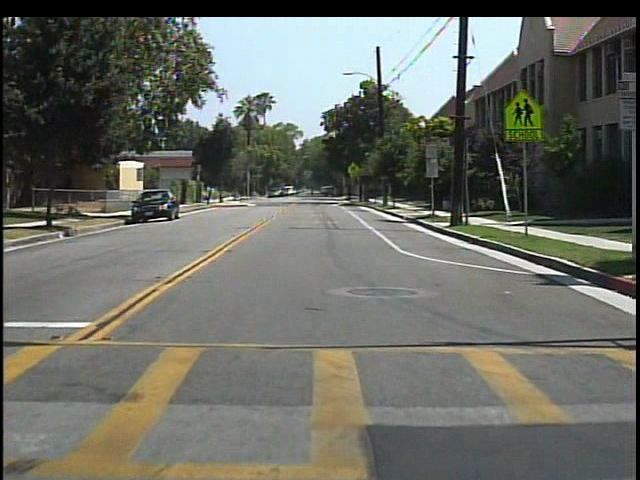person: (305, 183, 320, 201)
